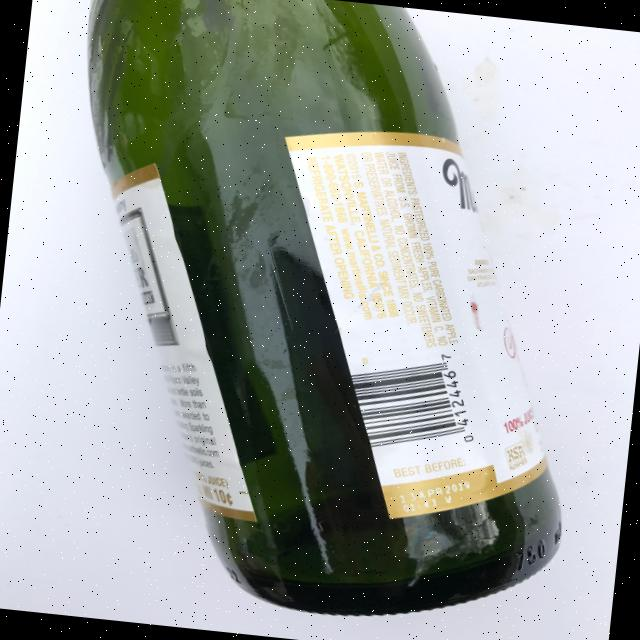glass: (27, 0, 616, 639)
